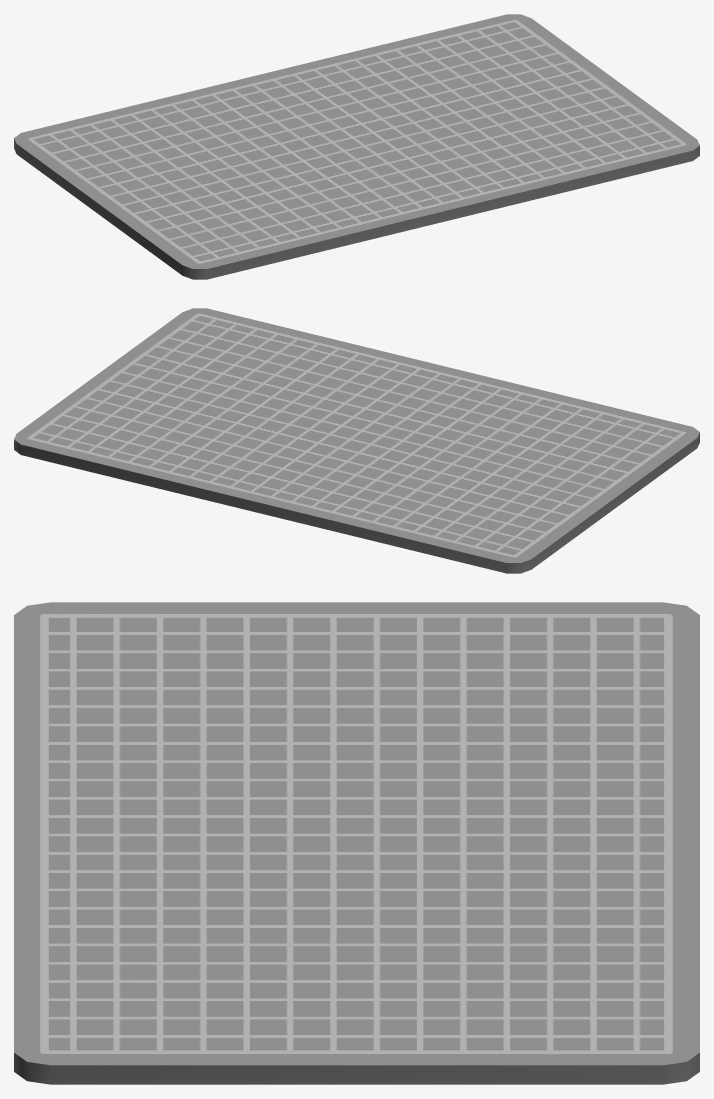
Rendered from BO_floor.FBX.
The picture shows the model from 3 angles, top to bottom: view 1: azimuth 30°, elevation 25°; view 2: azimuth 150°, elevation 25°; view 3: azimuth 270°, elevation 25°; orthographic projection. The views are drawn at different scales.
Visible parts, largest first — view 1: Box001; view 2: Box001; view 3: Box001.
Boxes of the visible parts, bbox=[...] form: Box001: bbox=[14, 14, 699, 279]; Box001: bbox=[14, 308, 699, 573]; Box001: bbox=[14, 602, 699, 1084].
Size of the model in its own units: 212 by 4.12 by 133.
